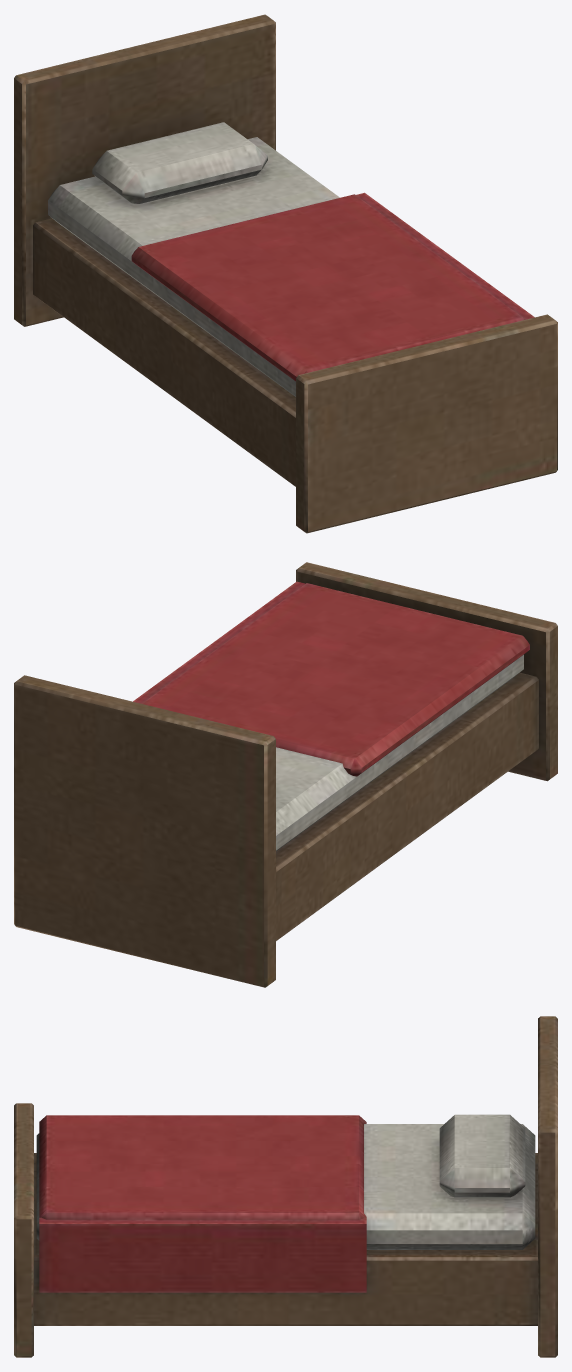
Rendered from cama.glb.
3 renders of one model, top to bottom at view 1: azimuth 30°, elevation 25°; view 2: azimuth 150°, elevation 25°; view 3: azimuth 270°, elevation 25°, orthographic. The views are drawn at different scales.
Visible parts, largest first — view 1: cama; view 2: cama; view 3: cama.
Part boxes in pixels (box(x1,y1,x2,y2)): cama: box(14, 14, 557, 533); cama: box(14, 562, 557, 987); cama: box(14, 1016, 557, 1357).
Bounding box in the file's own units: 1.08 × 1 × 2.16.
Materials: 1 (1 with a texture image).
